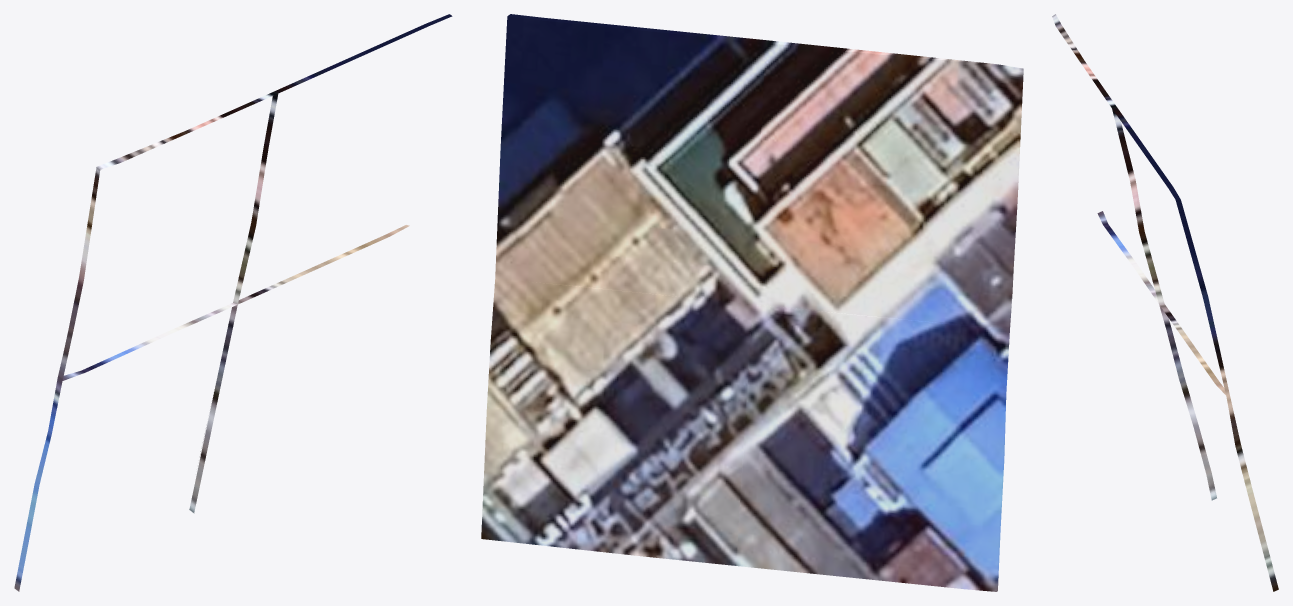
3 renders of one model, left to right at view 1: azimuth 30°, elevation 25°; view 2: azimuth 150°, elevation 25°; view 3: azimuth 270°, elevation 25°, orthographic. The views are drawn at different scales.
Bounding box in the file's own units: 38.63 × 37.27 × 18.86.
Materials: 1 (1 with a texture image).
